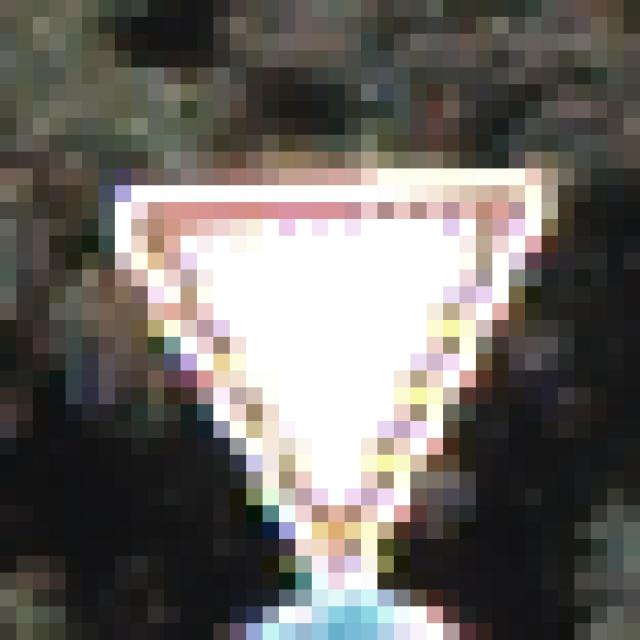Give Way: (83, 102, 559, 557)
